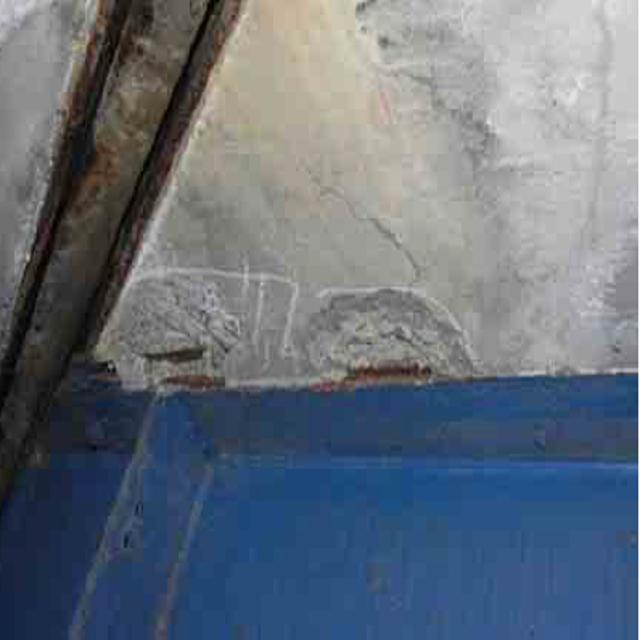spalling: (127, 253, 249, 413), (301, 289, 453, 400)
